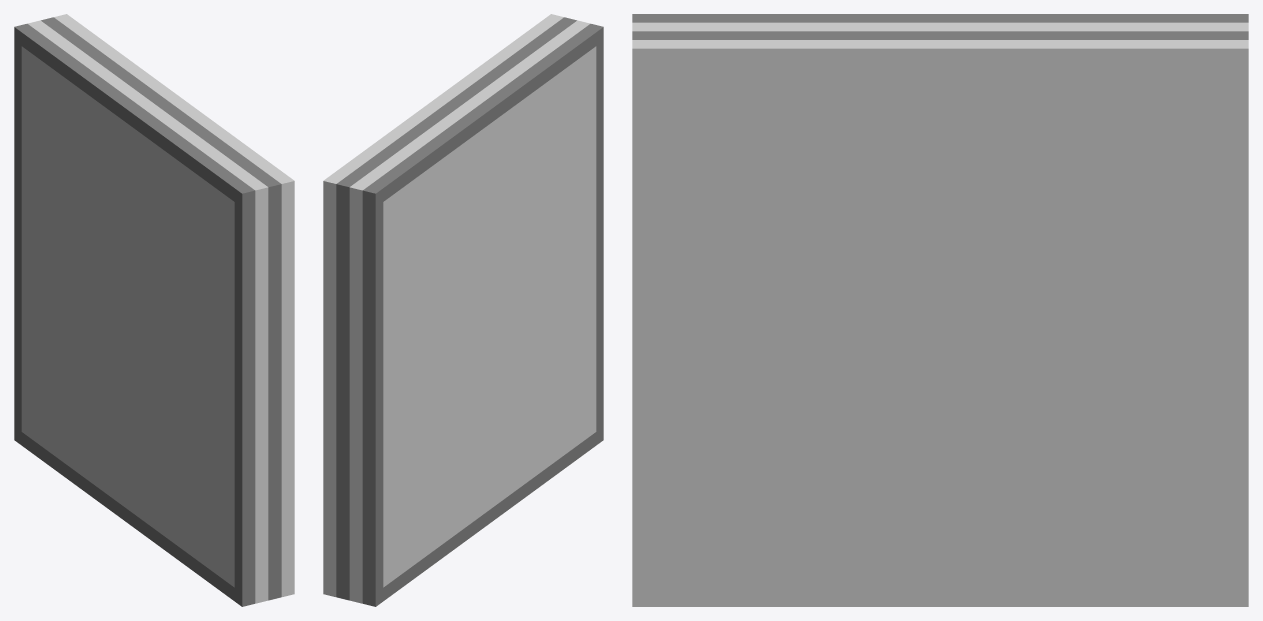
The model's file is SpellBook-1.obj.
The picture shows the model from 3 angles, left to right: view 1: azimuth 30°, elevation 25°; view 2: azimuth 150°, elevation 25°; view 3: azimuth 270°, elevation 25°; orthographic projection. The views are drawn at different scales.
Bounding box in the file's own units: 0.4 × 3 × 3.
1 material, 1 textured.
